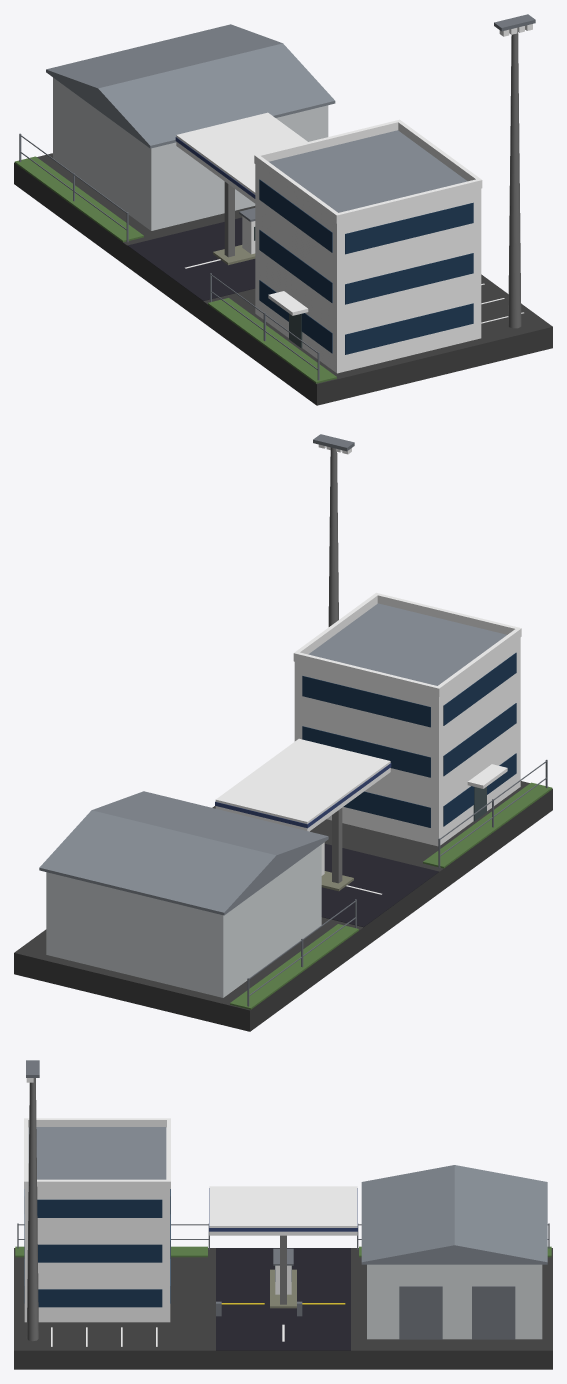
The model's file is port_building.fbx.
The picture shows the model from 3 angles, top to bottom: view 1: azimuth 30°, elevation 25°; view 2: azimuth 150°, elevation 25°; view 3: azimuth 270°, elevation 25°; orthographic projection. The views are drawn at different scales.
Parts seen in each view (by area): view 1: a403_0_port_building; view 2: a403_0_port_building; view 3: a403_0_port_building.
Boxes of the visible parts, box(x1,y1,x2,y2) form: a403_0_port_building: box(14, 14, 552, 405); a403_0_port_building: box(14, 434, 552, 1031); a403_0_port_building: box(14, 1060, 552, 1369).
Bounding box in the file's own units: 18 × 23.75 × 40.
